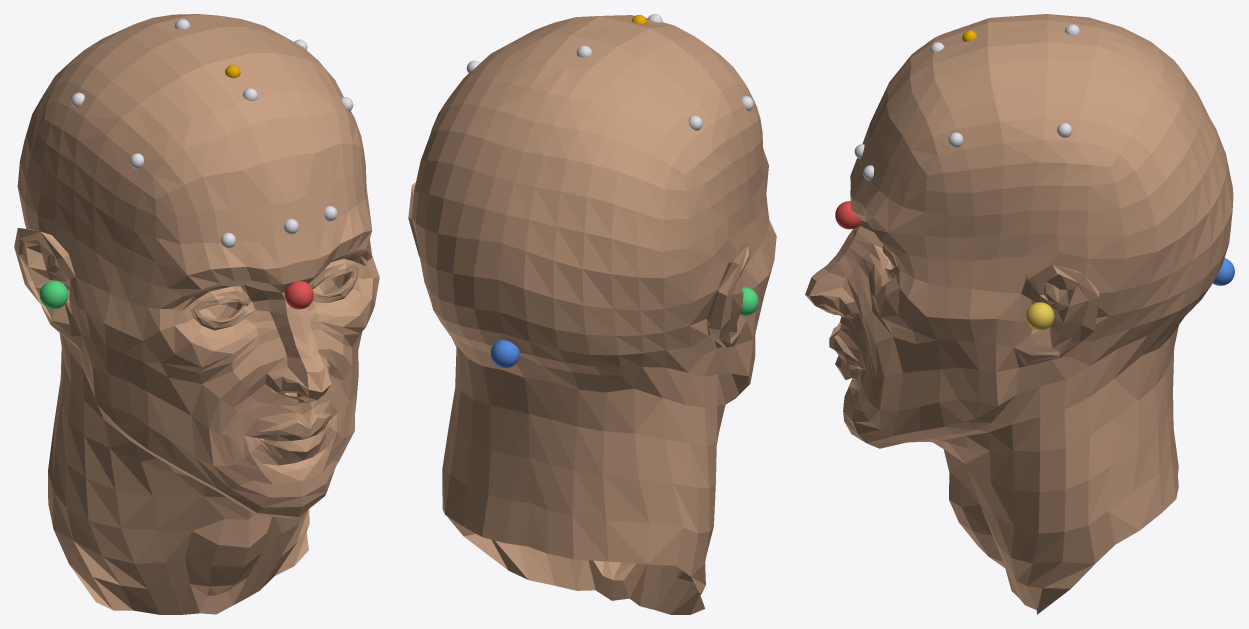
Rendered from head.glb.
3 views of the same model, side by side, from view 1: azimuth 30°, elevation 25°; view 2: azimuth 150°, elevation 25°; view 3: azimuth 270°, elevation 25° (orthographic). The views are drawn at different scales.
Visible parts, largest first — view 1: Head, AL_LeftPreauricular, Nz_Nasion; view 2: Head, Iz_Inion; view 3: Head, AR_RightPreauricular.
Boxes of the visible parts, <box> form: Head: <box>14,14,379,614</box>; AL_LeftPreauricular: <box>39,280,68,309</box>; Nz_Nasion: <box>285,281,313,309</box>; Head: <box>408,15,776,614</box>; Iz_Inion: <box>491,340,519,368</box>; Head: <box>805,14,1233,614</box>; AR_RightPreauricular: <box>1026,302,1054,330</box>.
Bounding box in the file's own units: 5.7 × 9.62 × 6.67.
